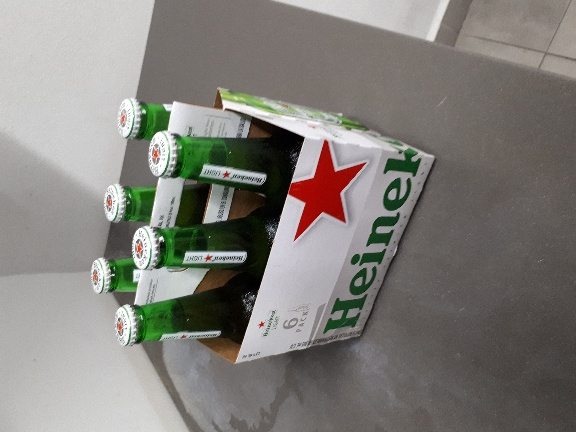HLB: (65, 67, 307, 266)
